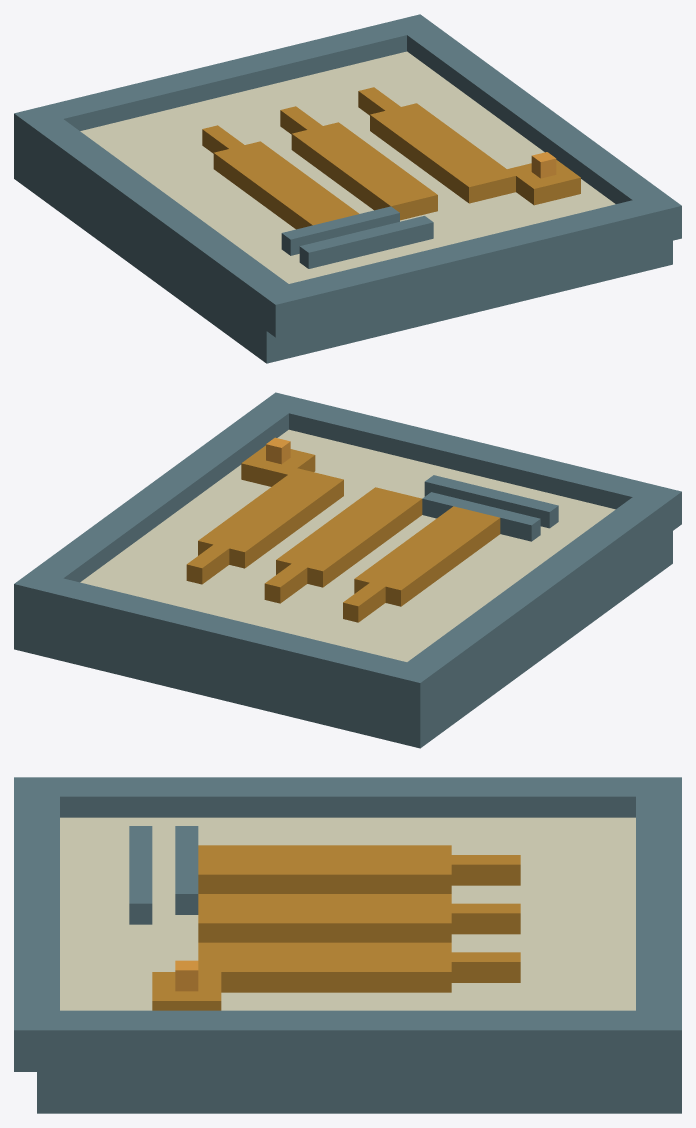
File: voxel_32_70203.glb
The picture shows the model from 3 angles, top to bottom: view 1: azimuth 30°, elevation 25°; view 2: azimuth 150°, elevation 25°; view 3: azimuth 270°, elevation 25°; orthographic projection. The views are drawn at different scales.
Parts seen in each view (by area): view 1: prop_70203; view 2: prop_70203; view 3: prop_70203.
Part boxes in pixels (x1,y1,x2,y2): prop_70203: (14,14,681,363); prop_70203: (14,392,681,748); prop_70203: (14,777,681,1113).
Bounding box in the file's own units: 0.6744 × 0.1297 × 0.7522.
